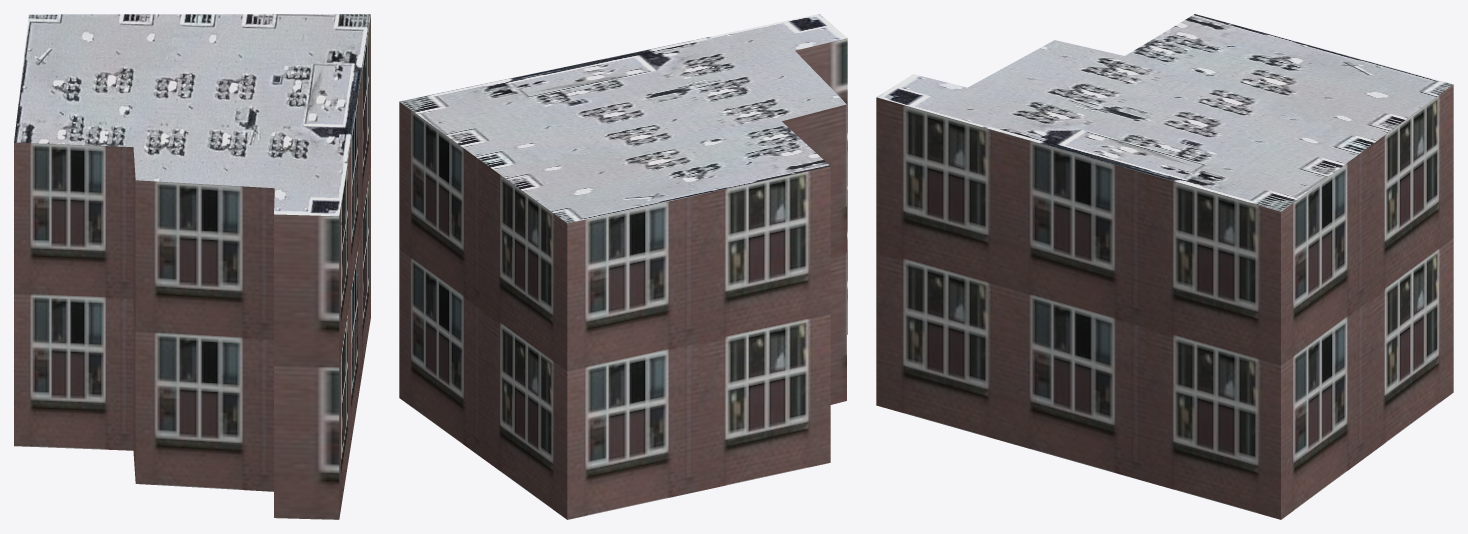
Rendered from ResTex__4075.fbx.
3 views of the same model, side by side, from view 1: azimuth 30°, elevation 25°; view 2: azimuth 150°, elevation 25°; view 3: azimuth 270°, elevation 25° (orthographic). The views are drawn at different scales.
Parts seen in each view (by area): view 1: CityEngineMaterial_12_m, CityEngineMaterial_4_m; view 2: CityEngineMaterial_12_m, CityEngineMaterial_4_m; view 3: CityEngineMaterial_12_m, CityEngineMaterial_4_m.
Boxes of the visible parts, left/top/right/bottom form: CityEngineMaterial_12_m: left=14, top=15, right=370, bottom=519; CityEngineMaterial_4_m: left=14, top=14, right=370, bottom=216; CityEngineMaterial_12_m: left=399, top=38, right=847, bottom=519; CityEngineMaterial_4_m: left=399, top=14, right=847, bottom=223; CityEngineMaterial_12_m: left=876, top=84, right=1453, bottom=519; CityEngineMaterial_4_m: left=876, top=14, right=1453, bottom=211.
Bounding box in the file's own units: 8.26 × 6 × 10.19.
2 materials, 2 textured.
